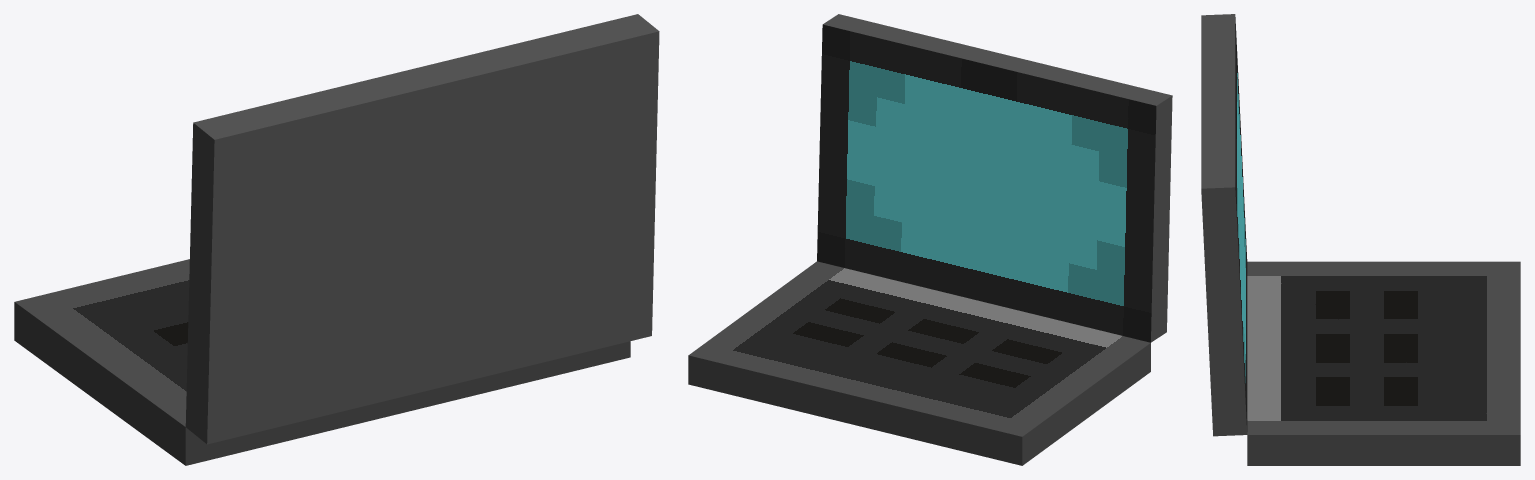
3 renders of one model, left to right at view 1: azimuth 30°, elevation 25°; view 2: azimuth 150°, elevation 25°; view 3: azimuth 270°, elevation 25°, orthographic. The views are drawn at different scales.
Parts seen in each view (by area): view 1: cube (×2); view 2: cube (×2); view 3: cube (×2).
Boxes of the visible parts, x1,y1,x2,y2 form: cube (×2): (14,14,659,465); cube (×2): (688,14,1172,465); cube (×2): (1201,14,1520,465).
Bounding box in the file's own units: 0.75 × 0.562 × 0.5843.
1 material, 1 textured.
